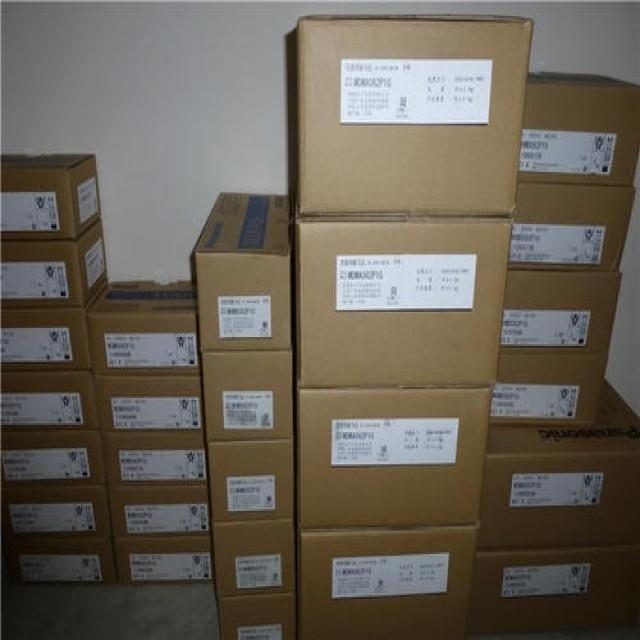box: (285, 16, 532, 219), (294, 221, 512, 385), (477, 376, 640, 547), (298, 387, 493, 527), (300, 527, 479, 638), (193, 192, 291, 351), (467, 549, 640, 638), (518, 70, 640, 186), (507, 183, 636, 272), (88, 280, 200, 375), (502, 272, 622, 355), (0, 217, 108, 307), (0, 149, 101, 242), (489, 353, 608, 430), (200, 351, 292, 443), (206, 441, 294, 523), (3, 482, 111, 545), (211, 522, 296, 597), (0, 428, 105, 488), (93, 376, 204, 432), (0, 305, 91, 373), (99, 430, 209, 484), (1, 373, 99, 432), (105, 486, 210, 541), (114, 538, 214, 586), (12, 545, 115, 586), (216, 595, 296, 638)
